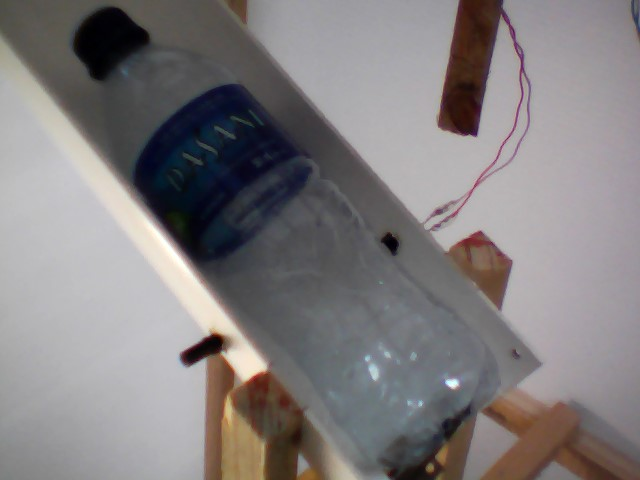plastico: (67, 6, 503, 480)
